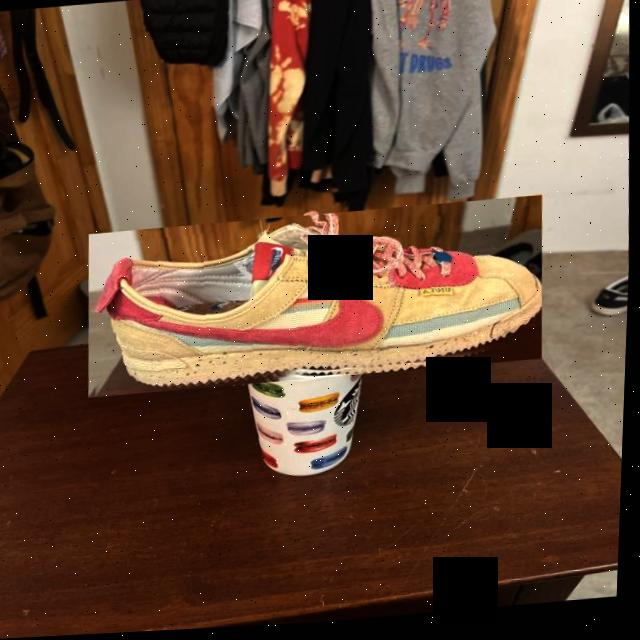shoe: (86, 200, 549, 399)
